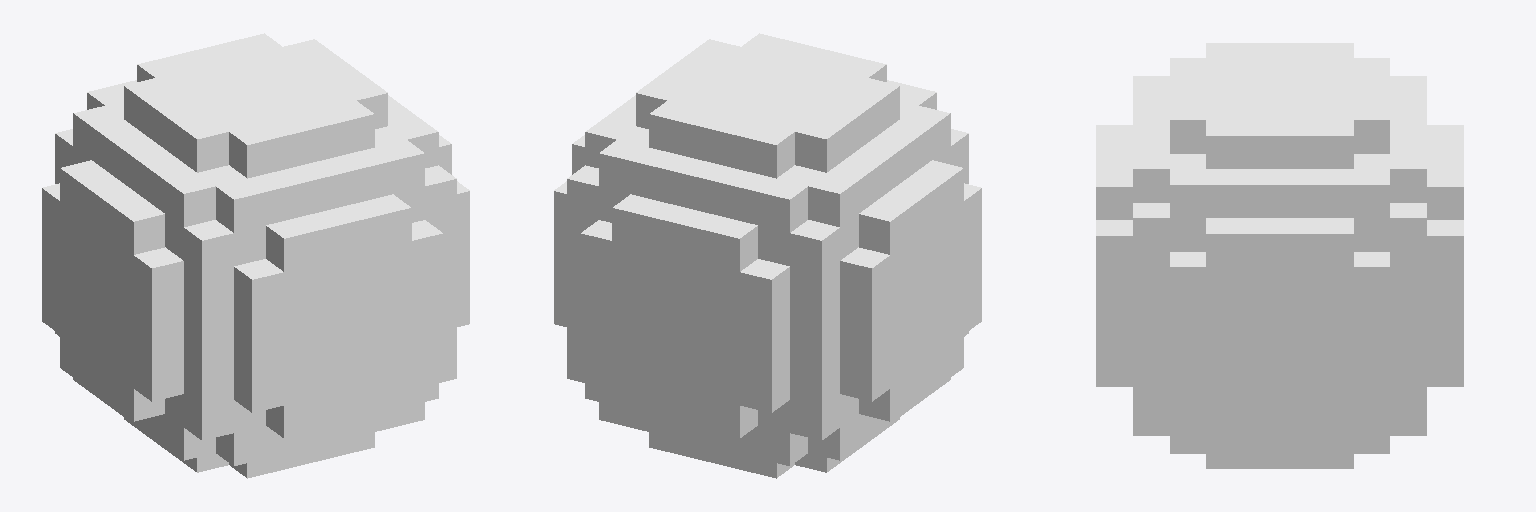
File: Sun.obj
The picture shows the model from 3 angles: view 1: azimuth 30°, elevation 25°; view 2: azimuth 150°, elevation 25°; view 3: azimuth 270°, elevation 25°; orthographic projection.
Parts seen in each view (by area): view 1: Sun; view 2: Sun; view 3: Sun.
Boxes of the visible parts, <box> form: Sun: <box>42,33,469,478</box>; Sun: <box>554,33,981,478</box>; Sun: <box>1096,43,1463,468</box>.
Size of the model in its own units: 1 by 1 by 1.